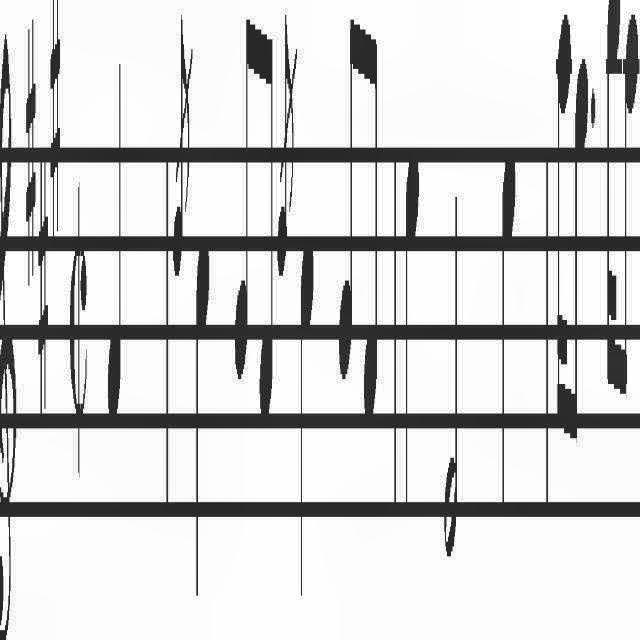Bass-clef: (0, 19, 16, 640)
Diez: (24, 11, 36, 301), (39, 160, 50, 414), (49, 0, 60, 236)
Eighth-note: (620, 17, 640, 431), (568, 52, 588, 460), (256, 0, 274, 420), (362, 0, 378, 426), (233, 1, 250, 392), (338, 0, 354, 394)
Half-note: (442, 177, 460, 565)
Quarter-note: (105, 46, 123, 432), (500, 145, 518, 522), (298, 237, 316, 608), (193, 232, 210, 608), (404, 148, 420, 522)
Sixteenth-note: (554, 5, 574, 443), (604, 1, 620, 423)
